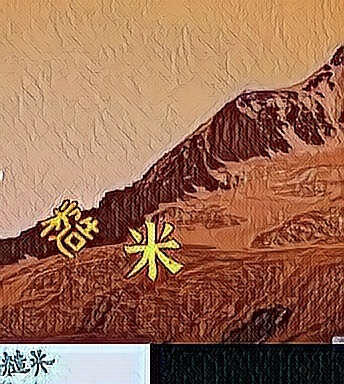B2DA: (37, 196, 97, 260)
C3D7: (121, 216, 181, 280)
